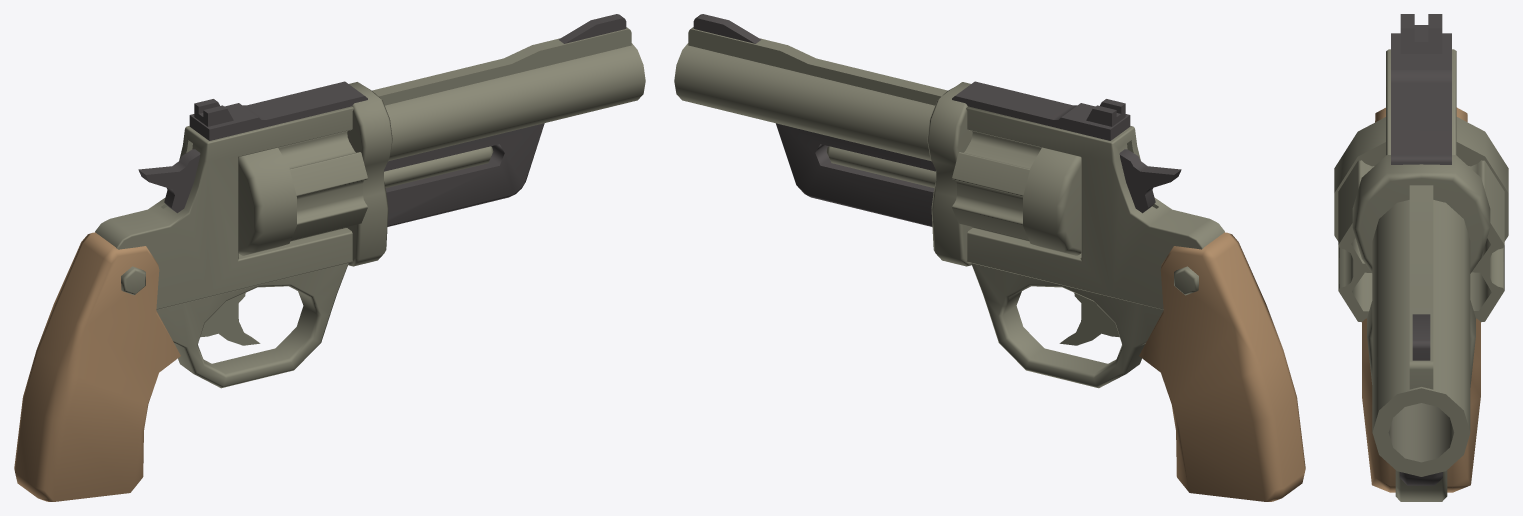
File: pistol_001.glb
3 views of the same model, side by side, from view 1: azimuth 30°, elevation 25°; view 2: azimuth 150°, elevation 25°; view 3: azimuth 270°, elevation 25° (orthographic). The views are drawn at different scales.
Parts seen in each view (by area): view 1: pistol_001, pistol_drum_001; view 2: pistol_001, pistol_drum_001; view 3: pistol_001, pistol_drum_001.
Part boxes in pixels (box(x1,y1,x2,y2)): pistol_001: box(14, 14, 645, 501); pistol_drum_001: box(278, 131, 367, 241); pistol_001: box(674, 14, 1305, 501); pistol_drum_001: box(952, 131, 1041, 241); pistol_001: box(1334, 14, 1508, 501); pistol_drum_001: box(1338, 160, 1504, 322).
Bounding box in the file's own units: 0.5751 × 0.3235 × 0.0942.
1 material, 1 textured.
